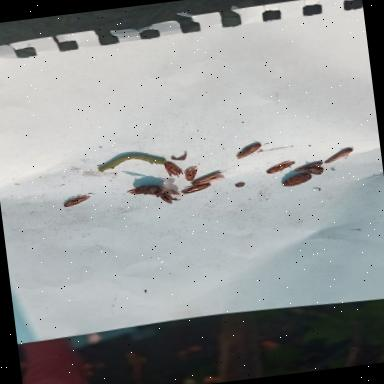pbw: (230, 139, 268, 162), (318, 145, 355, 165), (60, 190, 94, 210), (189, 170, 227, 186), (262, 158, 296, 174), (160, 160, 184, 180), (178, 182, 214, 194), (291, 160, 325, 172), (180, 165, 197, 182)
